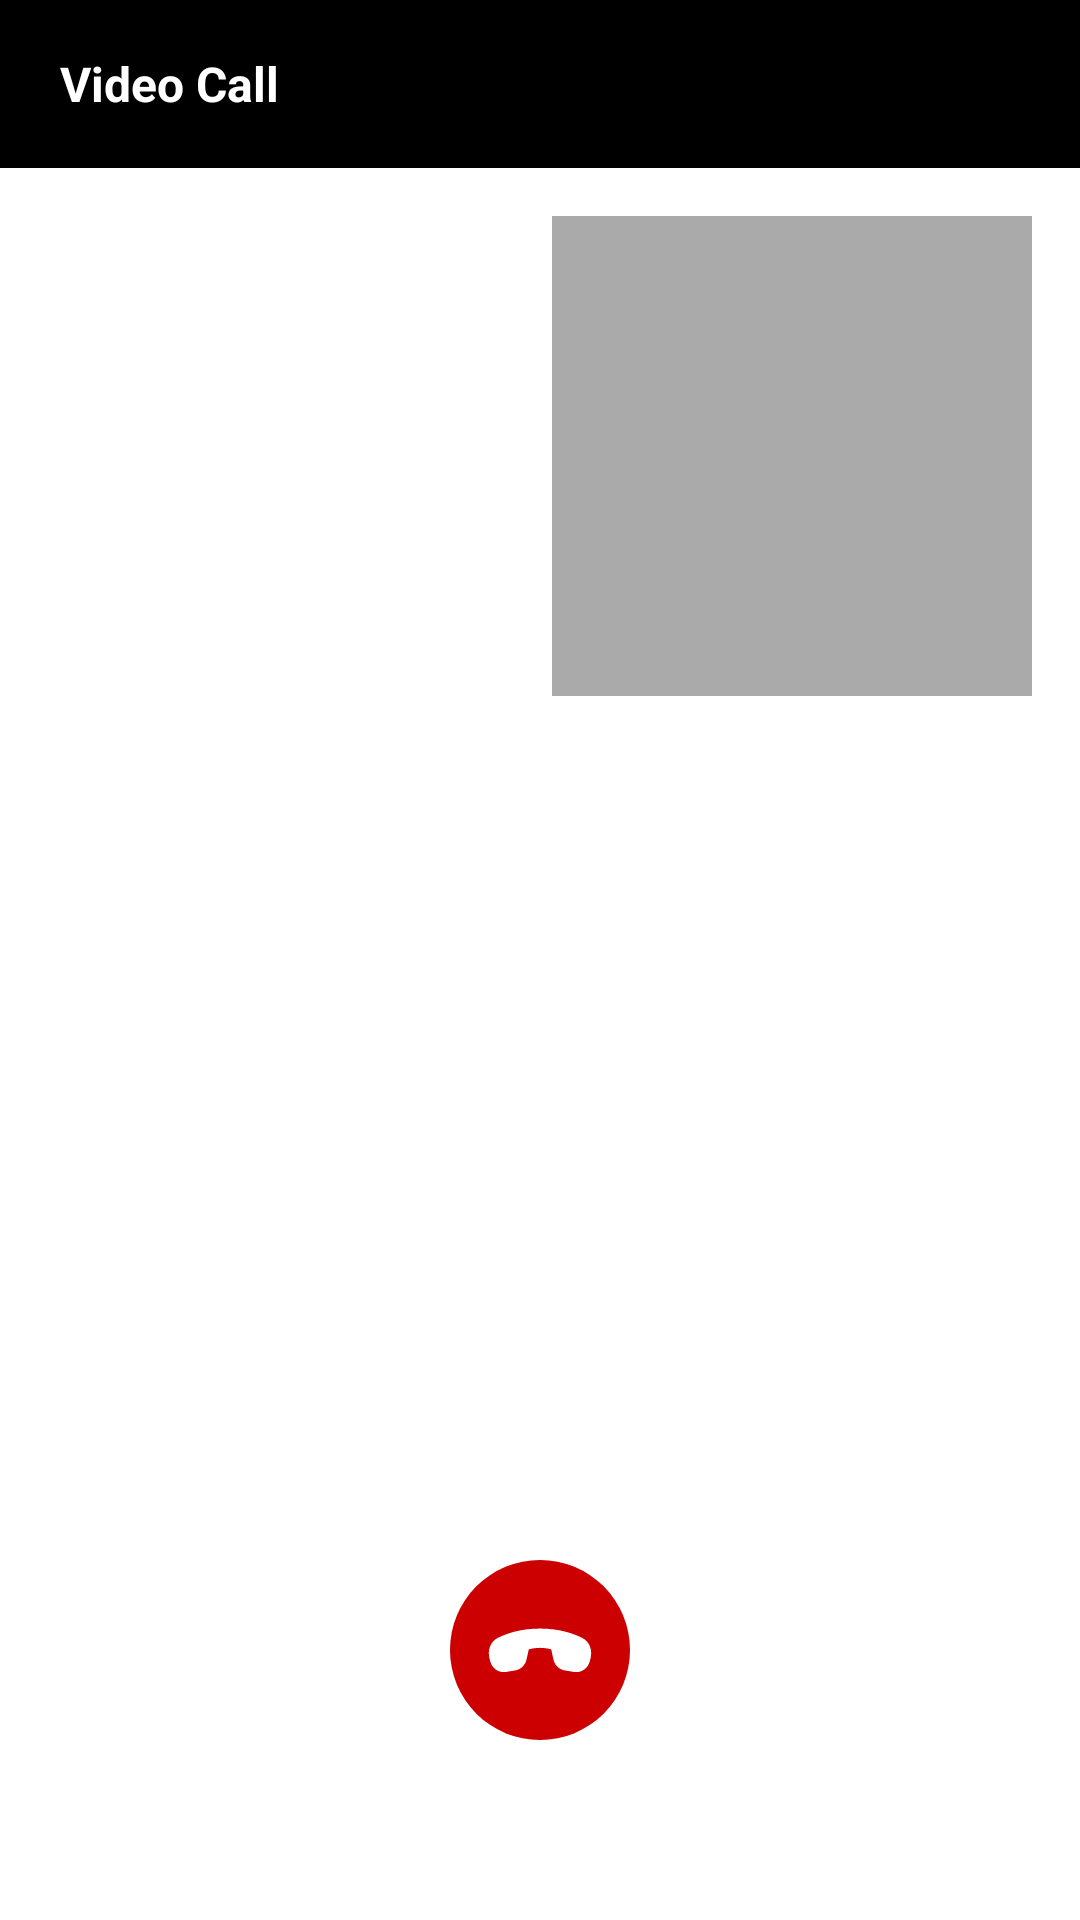

Named icons in this screenshot (1080w x 1920h) and their bounding boxes, (x1, y1, x2, y2):
call end: (450, 1560, 630, 1740)
